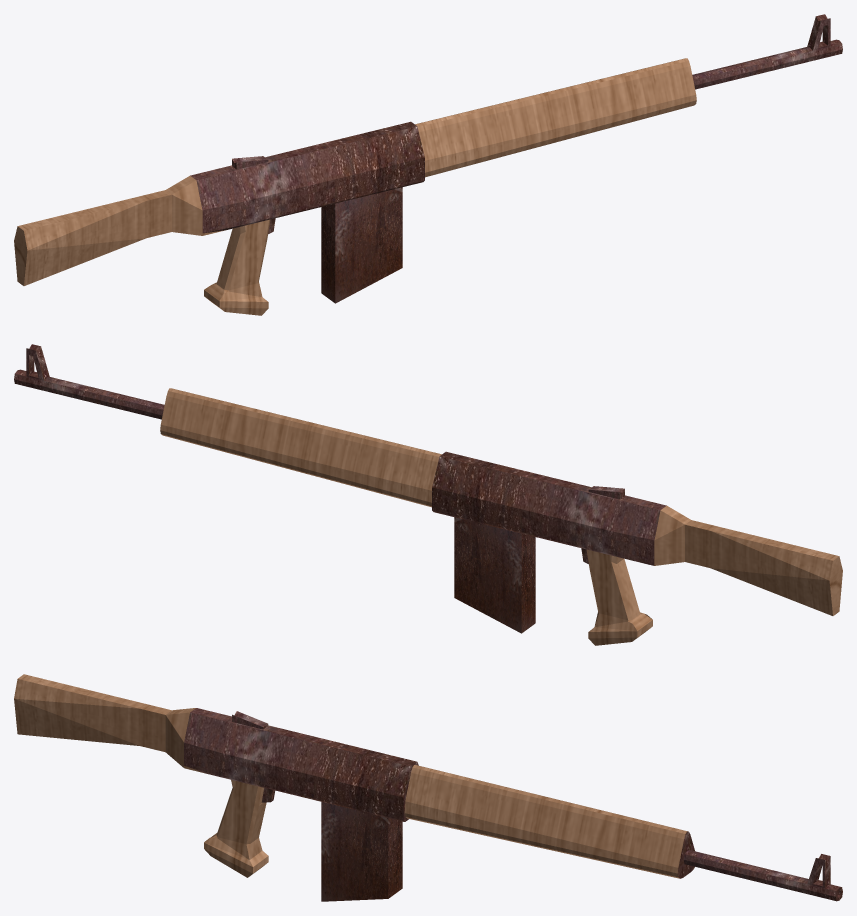
File: rifle-battle.fbx
The picture shows the model from 3 angles, top to bottom: view 1: azimuth 30°, elevation 25°; view 2: azimuth 150°, elevation 25°; view 3: azimuth 330°, elevation 25°; orthographic projection.
Visible parts, largest first — view 1: Cube; view 2: Cube; view 3: Cube.
Part boxes in pixels (x1=…): Cube: x1=14, y1=14, x2=842, y2=315; Cube: x1=14, y1=344, x2=842, y2=645; Cube: x1=14, y1=674, x2=842, y2=901.
Bounding box in the file's own units: 66.7 × 12.53 × 3.
2 materials, 2 textured.
